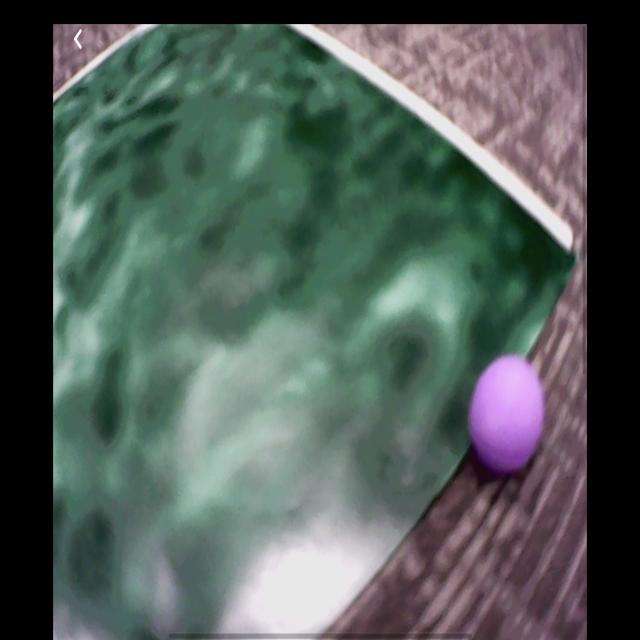ball: (472, 358, 546, 467)
